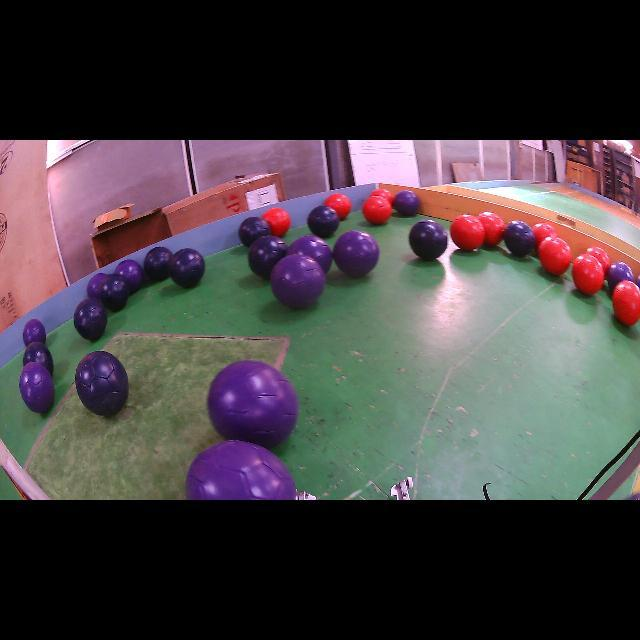B: (75, 351, 129, 416), (249, 235, 288, 279), (409, 219, 448, 260), (74, 298, 108, 341), (169, 249, 205, 288), (502, 220, 535, 256), (99, 274, 130, 311), (22, 341, 54, 376), (239, 216, 271, 248), (308, 206, 340, 238), (144, 246, 172, 281), (606, 261, 634, 291)
P: (208, 360, 299, 449), (186, 440, 296, 500), (270, 254, 325, 309), (332, 230, 380, 278), (19, 362, 55, 414), (286, 235, 332, 274), (115, 260, 145, 293), (394, 190, 420, 216), (22, 319, 46, 346), (88, 272, 106, 299)
R: (572, 254, 605, 295), (612, 280, 640, 326), (450, 215, 485, 251), (539, 236, 571, 275), (478, 211, 505, 246), (362, 196, 392, 224), (262, 208, 291, 236), (532, 222, 558, 250), (585, 246, 610, 275), (325, 194, 351, 219), (370, 189, 394, 205)
